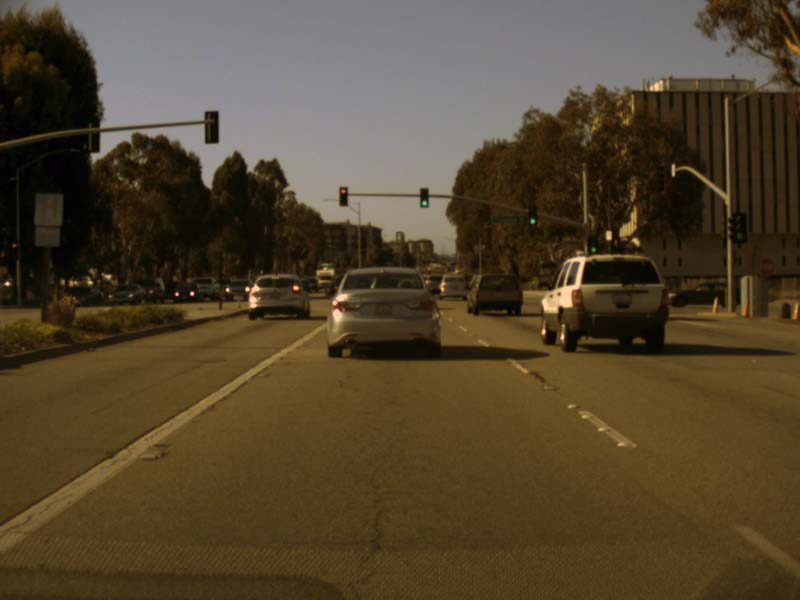Green: (732, 213, 745, 242), (419, 187, 428, 208), (587, 235, 597, 253), (528, 205, 536, 226)
Red: (339, 186, 346, 206), (10, 241, 17, 259)
